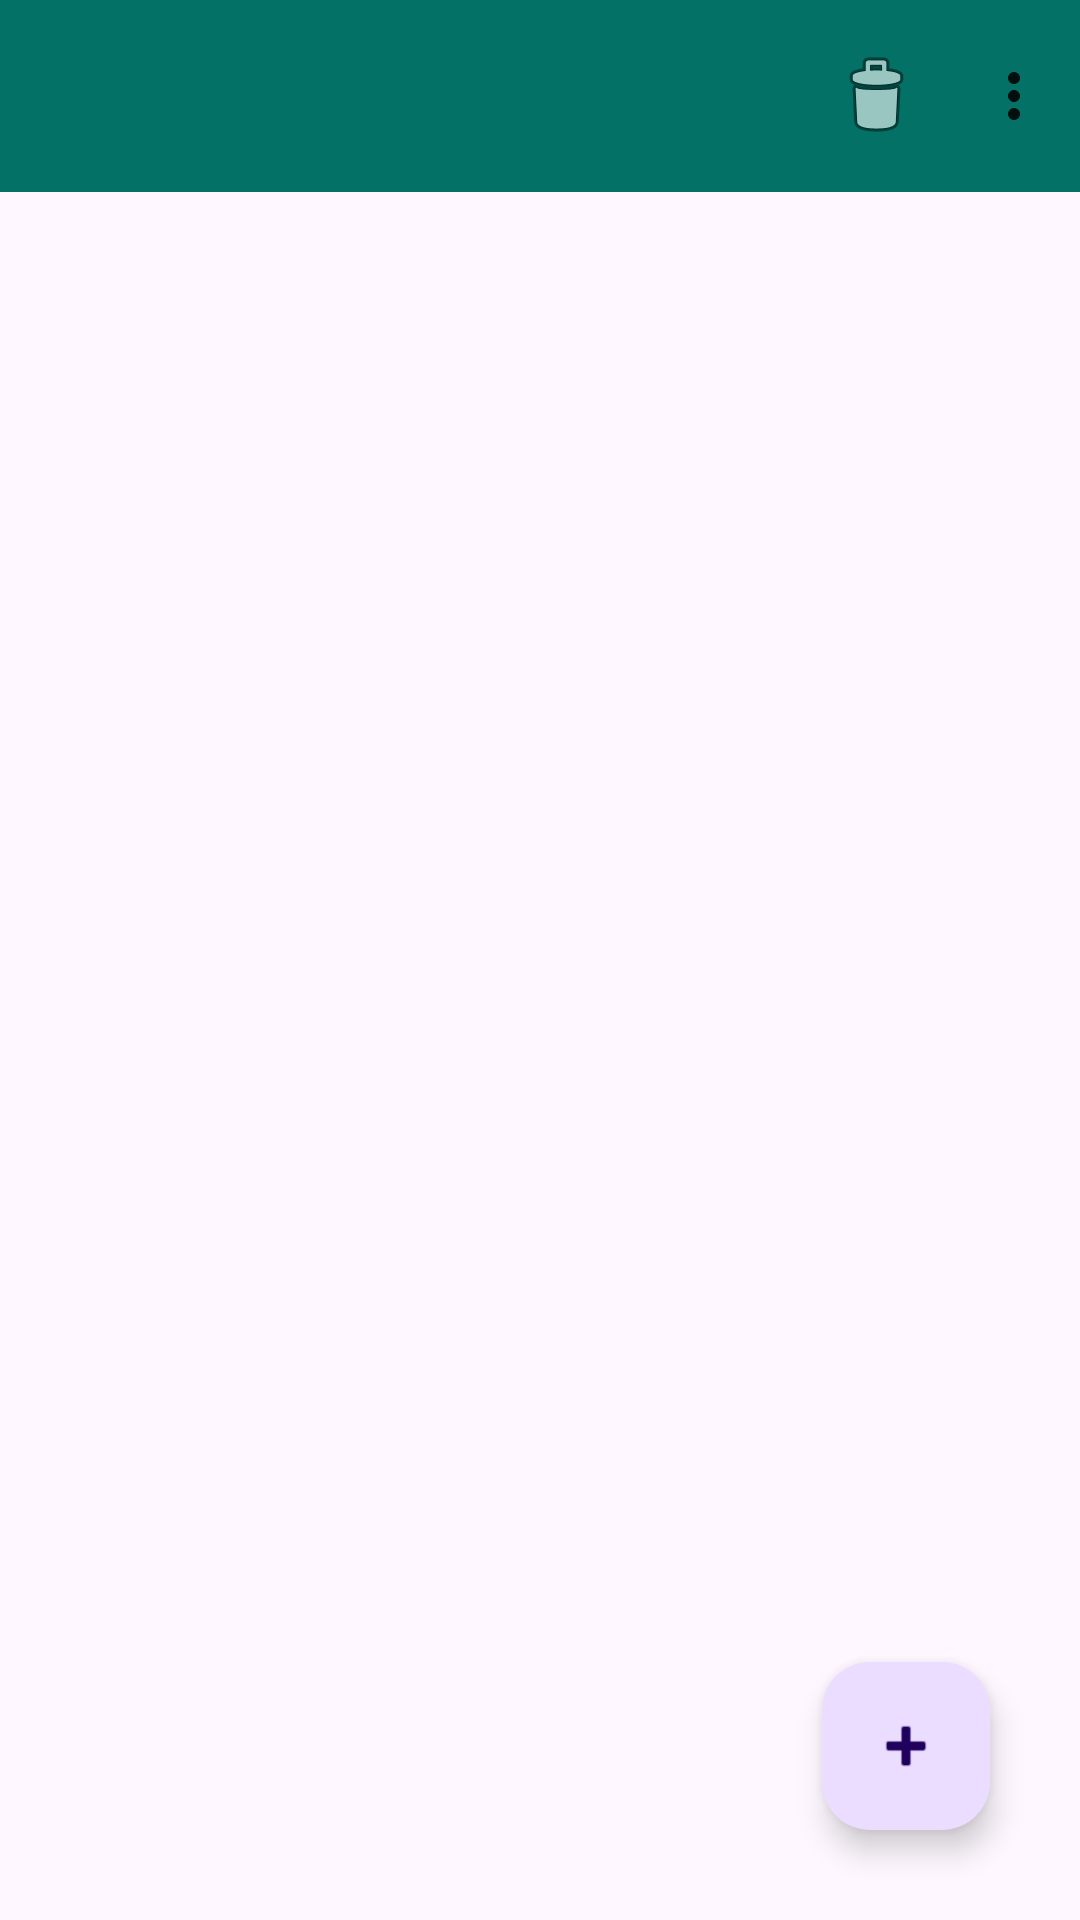

Locate icon controls on the screen. Image size 1080 x 1920, boxes as (left=x1, top=y1, right=x2, bottom=y2).
Add new note: (left=822, top=1662, right=990, bottom=1830)
